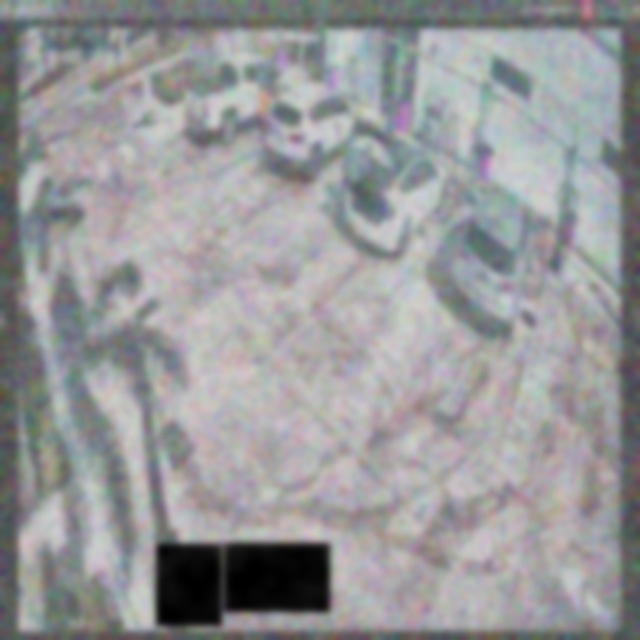Car: (341, 130, 446, 260), (449, 184, 537, 336), (258, 80, 362, 182)
